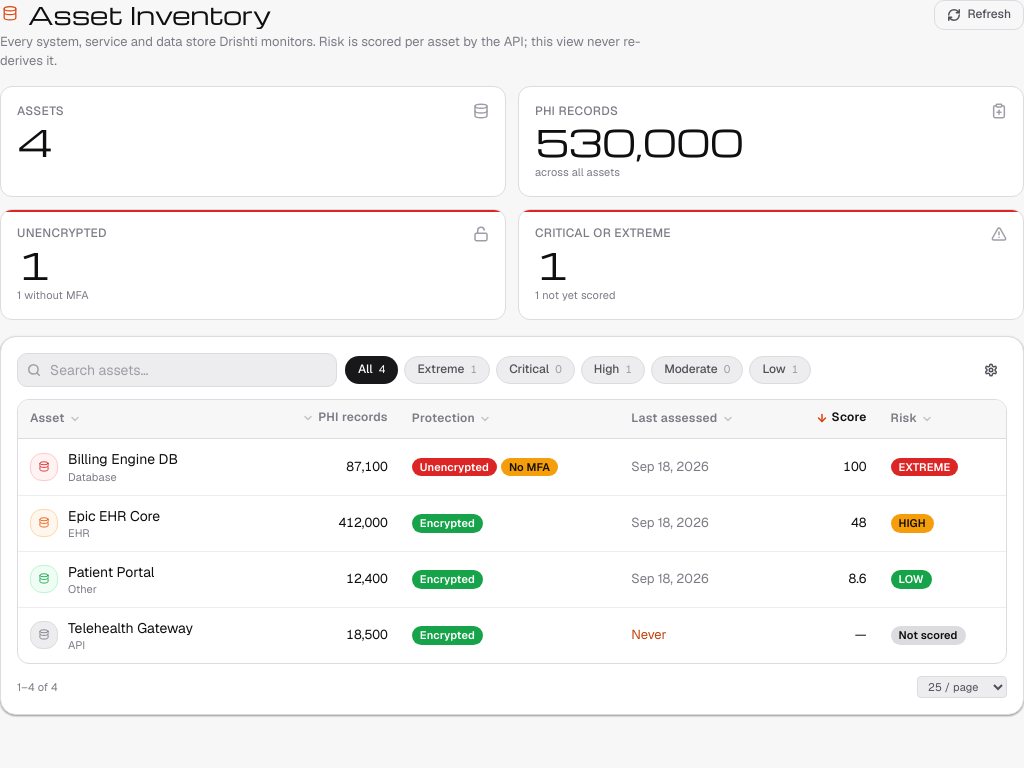
Asset detail › offers a tab for each side of the graph the API returns
Expected: the text "Billing Engine DB" is shown, [68,450,178,470]
Click the button with test id "row-1".
click(512, 467)  # box [18,440,1006,495]
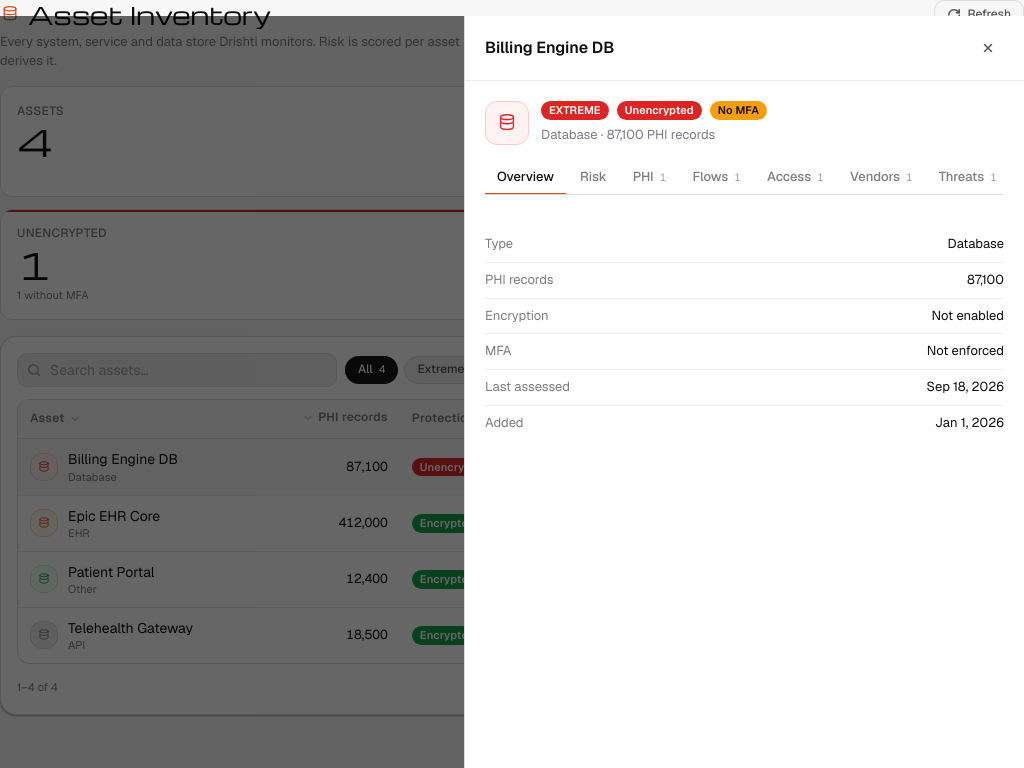
Expected: the tab "Overview" is shown, [485,161,566,194]
Expected: the tab "Risk" is shown, [568,161,619,194]
Expected: the tab "PHI1" is shown, [621,161,678,194]
